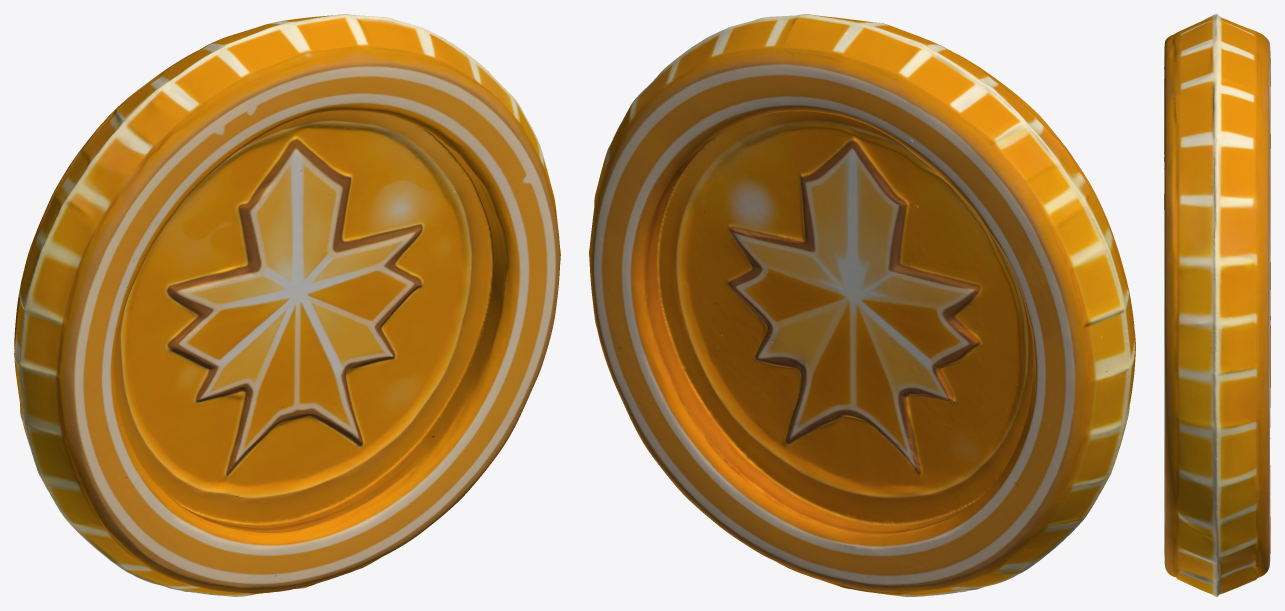
File: Coin.glb
The picture shows the model from 3 angles, left to right: view 1: azimuth 30°, elevation 25°; view 2: azimuth 150°, elevation 25°; view 3: azimuth 270°, elevation 25°; orthographic projection. The views are drawn at different scales.
Size of the model in its own units: 2 by 2 by 0.3682.
1 material, 1 textured.
